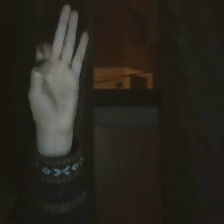F: (22, 2, 98, 139)
